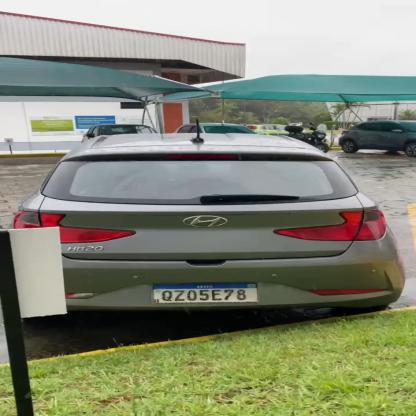Plate: (148, 276, 266, 306)
